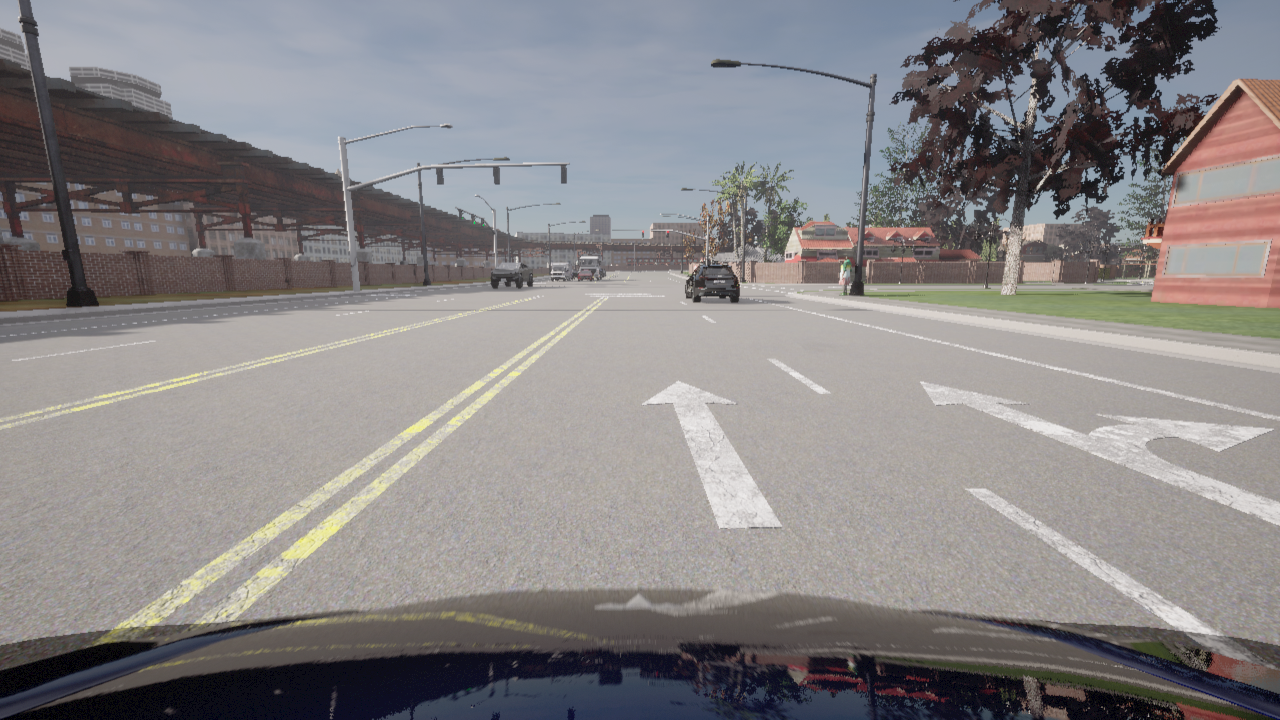cyclist: (0, 588, 1279, 719), (685, 263, 739, 302), (490, 262, 533, 288), (577, 256, 601, 279), (549, 263, 571, 281), (578, 270, 593, 281), (573, 271, 579, 278), (599, 267, 603, 277), (571, 270, 574, 279), (603, 269, 605, 276)
pedestrian: (839, 257, 851, 295)
